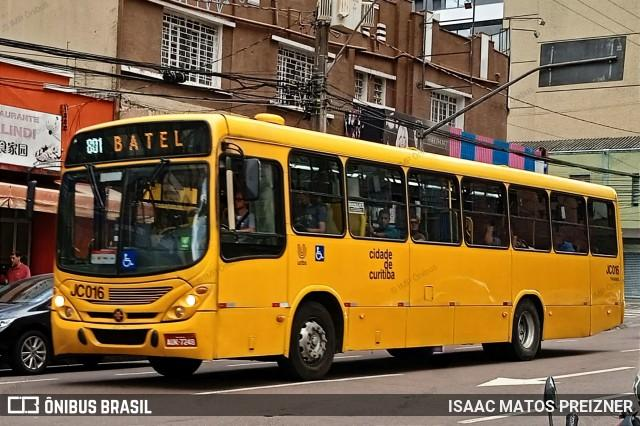BATEL: (107, 126, 186, 155)
